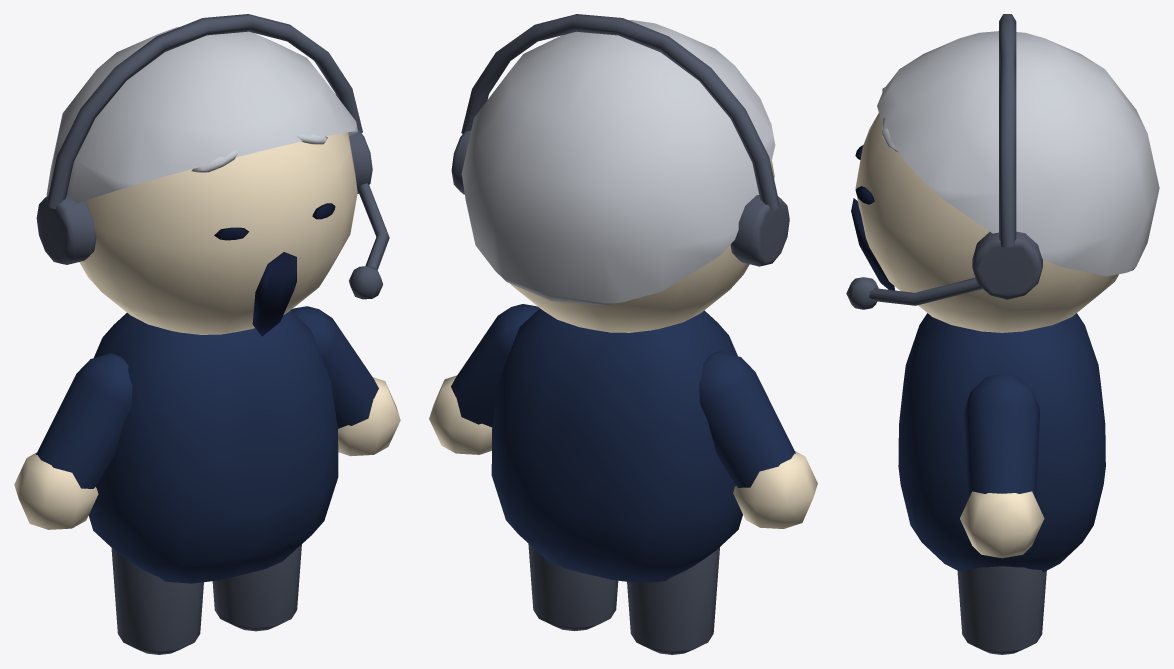
File: Crew_Controller_C.glb
3 renders of one model, left to right at view 1: azimuth 30°, elevation 25°; view 2: azimuth 150°, elevation 25°; view 3: azimuth 270°, elevation 25°, orthographic. The views are drawn at different scales.
Parts seen in each view (by area): view 1: Crew_Controller_C.Head, Crew_Controller_C.Torso, Crew_Controller_C.Arm_R, Crew_Controller_C.Legs, Crew_Controller_C.Arm_L, Crew_Controller_C.Face; view 2: Crew_Controller_C.Head, Crew_Controller_C.Torso, Crew_Controller_C.Arm_R, Crew_Controller_C.Legs, Crew_Controller_C.Arm_L; view 3: Crew_Controller_C.Head, Crew_Controller_C.Torso, Crew_Controller_C.Arm_L, Crew_Controller_C.Legs, Crew_Controller_C.Face.
Part boxes in pixels (x1=…): Crew_Controller_C.Head: x1=36, y1=14, x2=389, y2=334; Crew_Controller_C.Torso: x1=88, y1=310, x2=338, y2=583; Crew_Controller_C.Arm_R: x1=14, y1=353, x2=132, y2=529; Crew_Controller_C.Legs: x1=111, y1=544, x2=301, y2=654; Crew_Controller_C.Arm_L: x1=290, y1=306, x2=400, y2=456; Crew_Controller_C.Face: x1=191, y1=134, x2=335, y2=336; Crew_Controller_C.Head: x1=451, y1=14, x2=789, y2=332; Crew_Controller_C.Torso: x1=491, y1=308, x2=742, y2=583; Crew_Controller_C.Arm_R: x1=699, y1=351, x2=817, y2=528; Crew_Controller_C.Legs: x1=528, y1=543, x2=719, y2=654; Crew_Controller_C.Arm_L: x1=429, y1=304, x2=539, y2=454; Crew_Controller_C.Head: x1=846, y1=14, x2=1159, y2=332; Crew_Controller_C.Torso: x1=898, y1=313, x2=1105, y2=571; Crew_Controller_C.Arm_L: x1=960, y1=374, x2=1044, y2=558; Crew_Controller_C.Legs: x1=957, y1=566, x2=1046, y2=654; Crew_Controller_C.Face: x1=851, y1=87, x2=897, y2=290.
Bounding box in the file's own units: 0.7797 × 1.21 × 0.577.
Materials: 1 (1 with a texture image).
